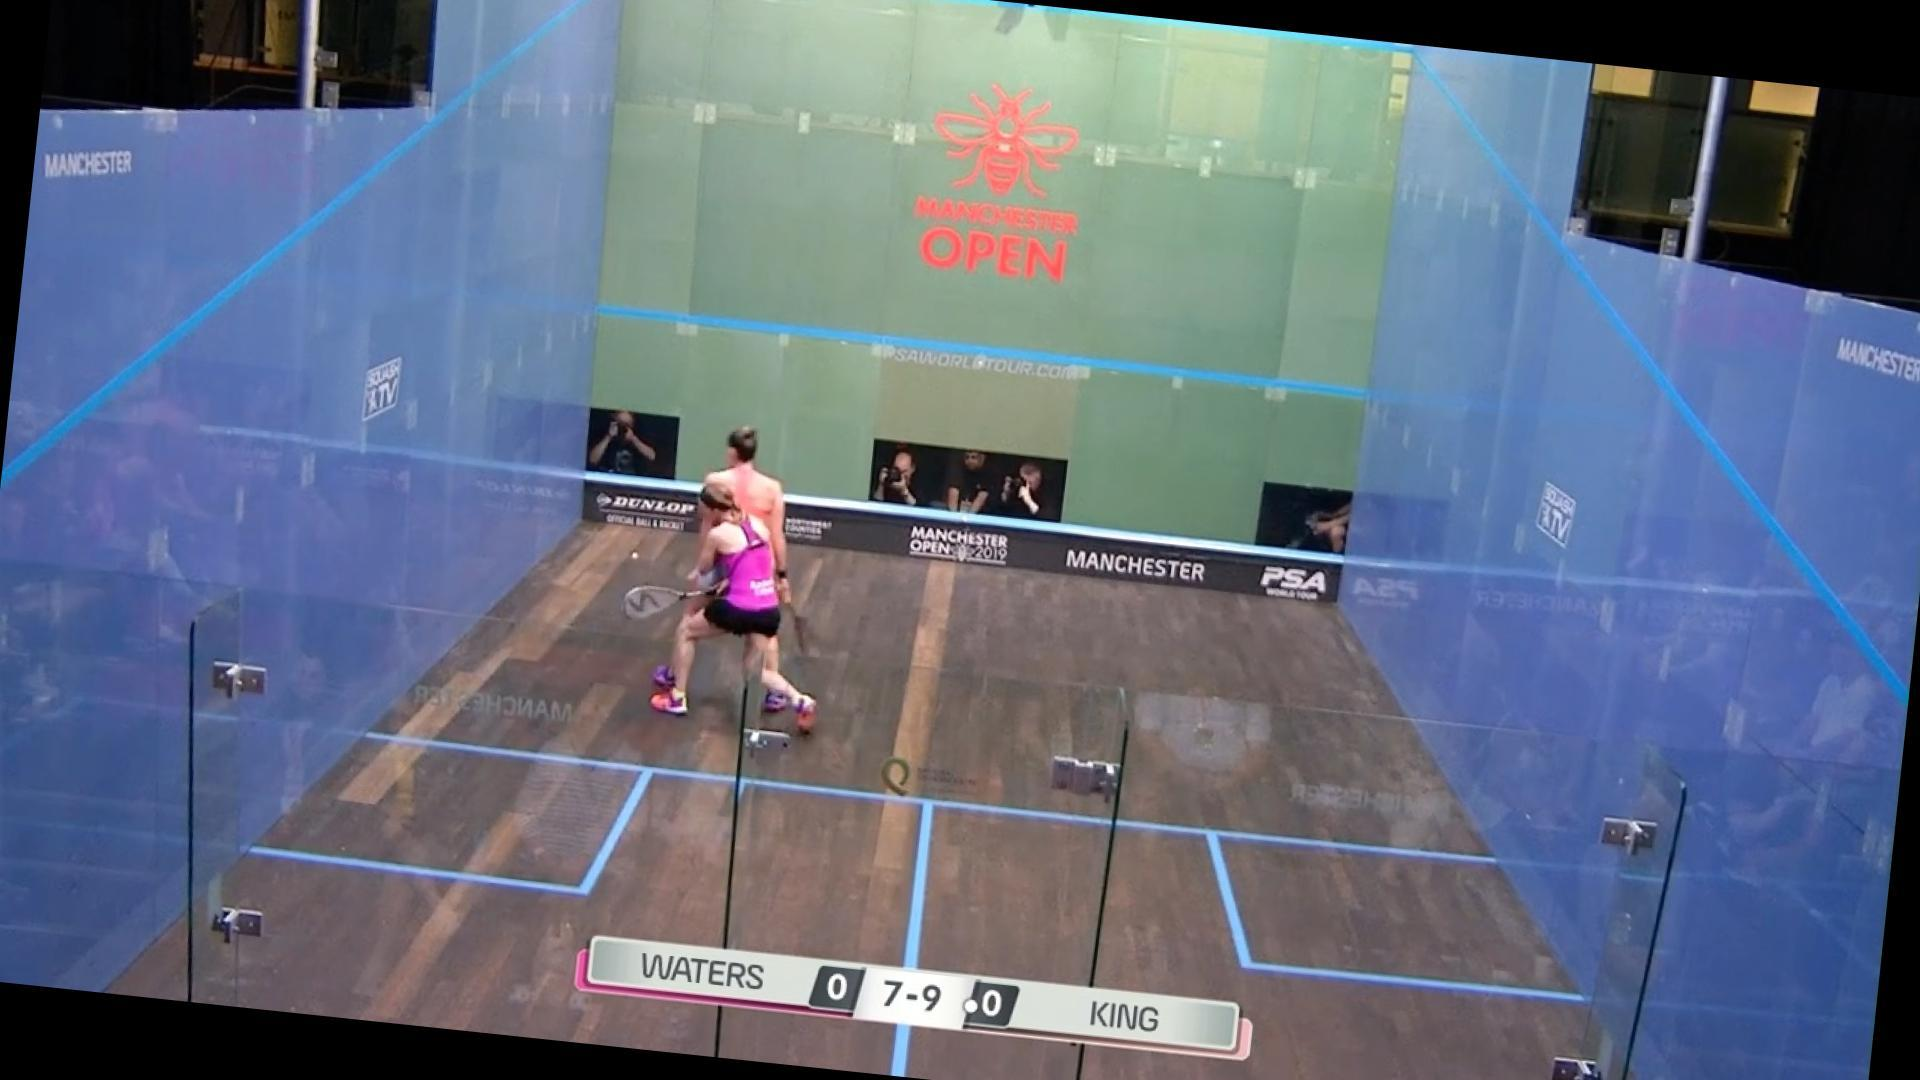Squash-Ball: (605, 521, 662, 593)
